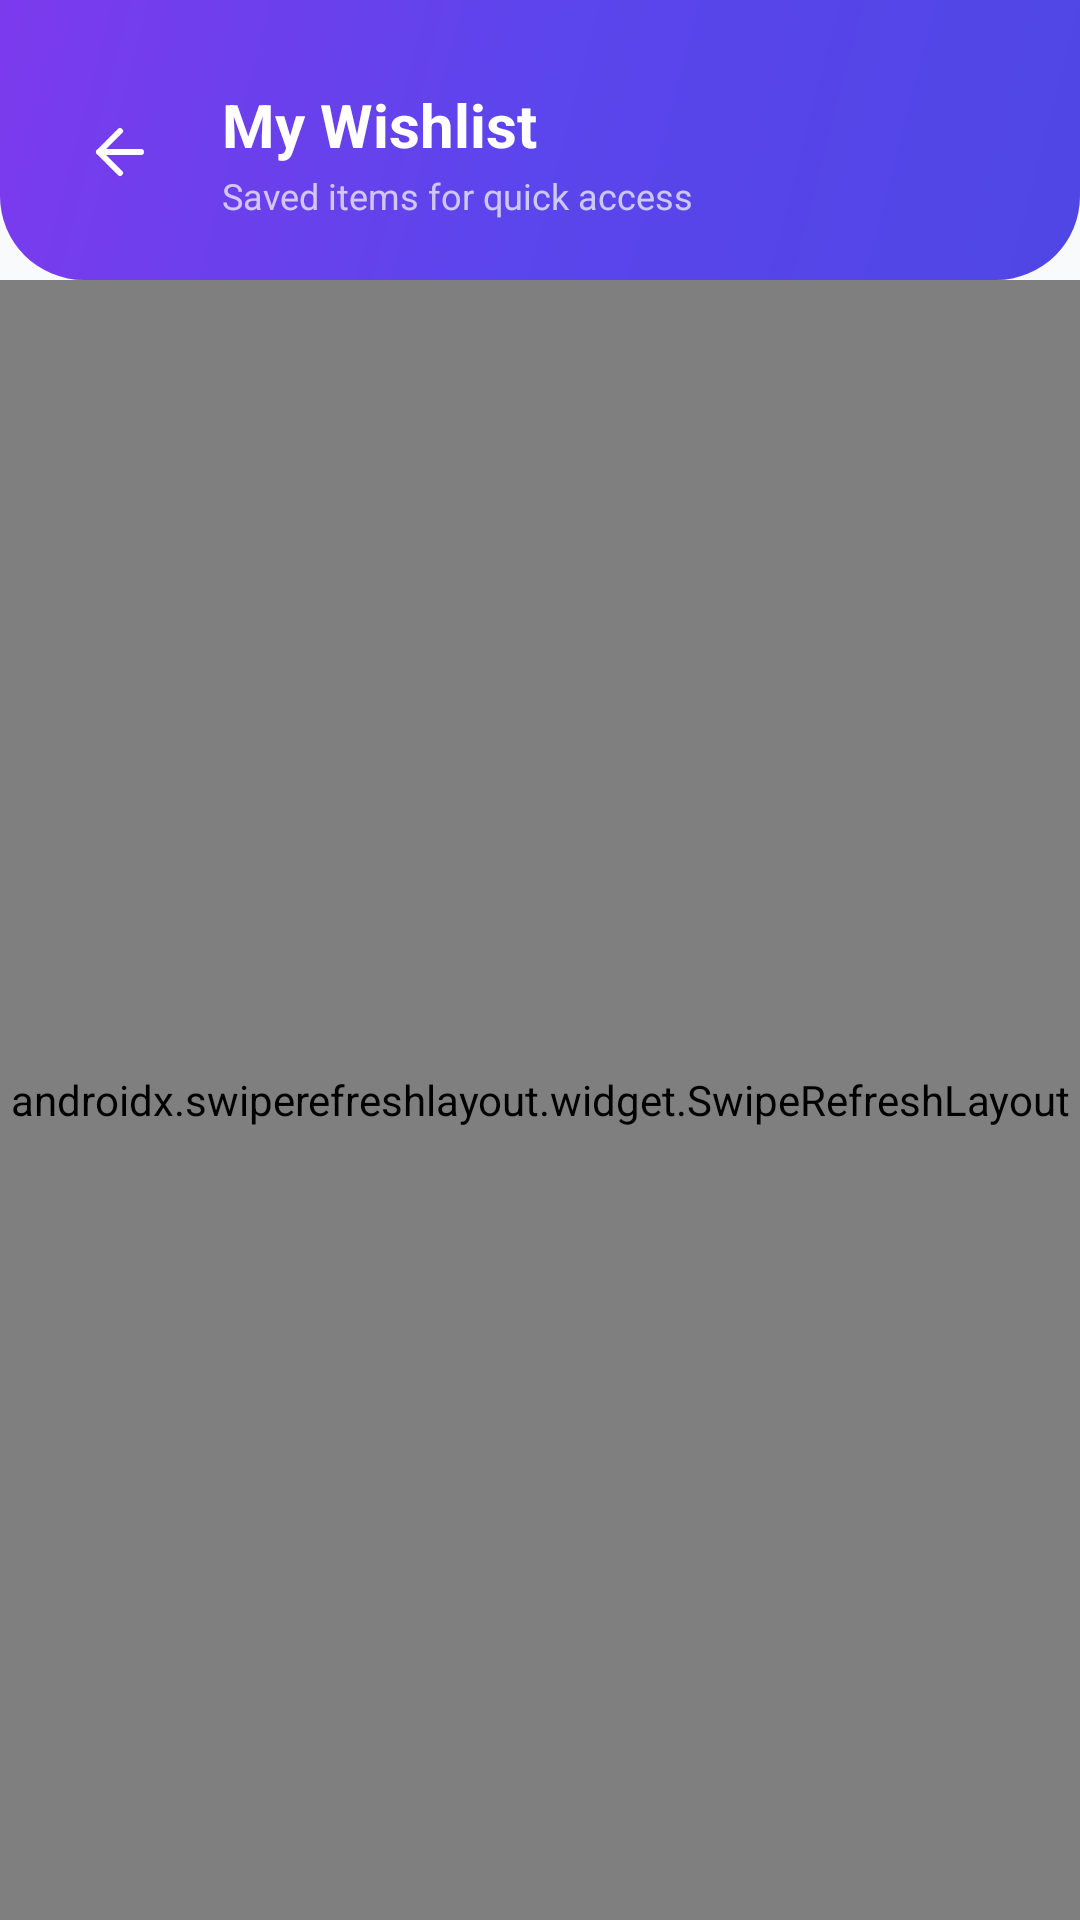

Icon click points for this 1080*1920 phone screenshot, format (x=x, y=y):
Back: (x=120, y=152)
